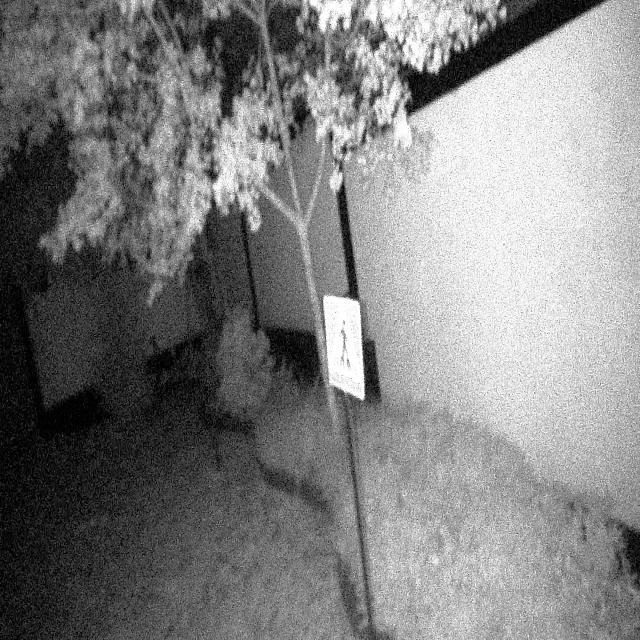Sign: (321, 291, 367, 403)
Tree: (157, 1, 341, 442)
